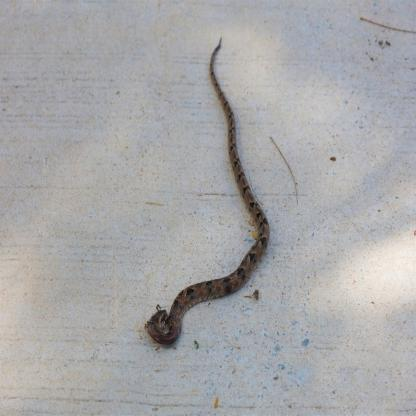Snake: (142, 38, 269, 348)
